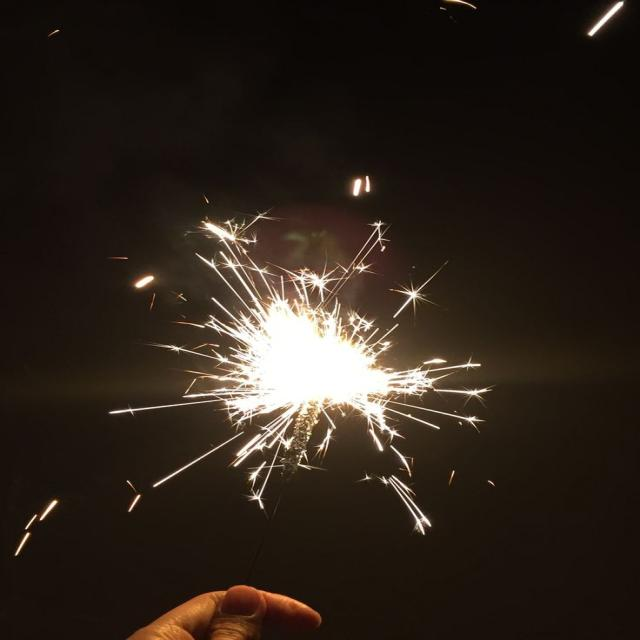fire: (224, 301, 386, 413)
